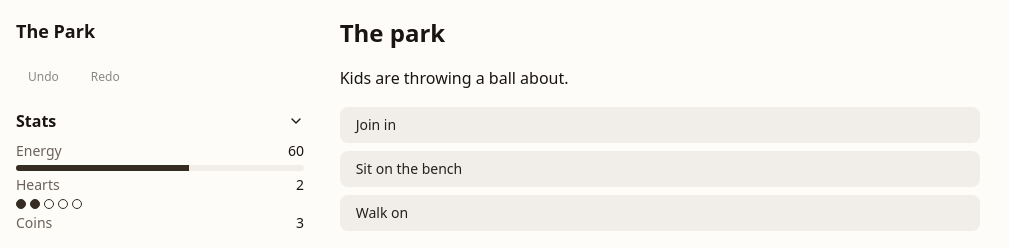
it: the minigame panel › draws the title, the words and a button for each live input, which send it
The image size is (1009, 248).
Click the button "Join in": [376, 124] box [340,107,980,143]
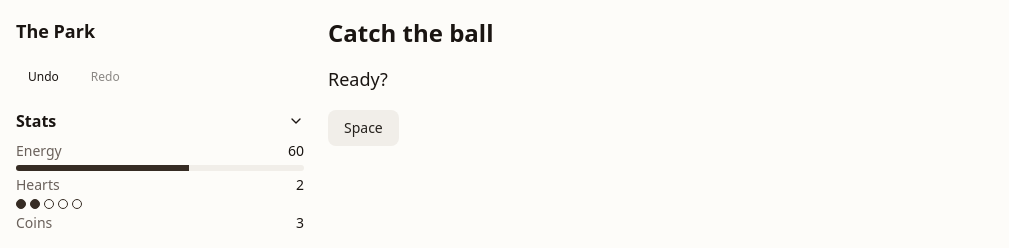
Expected: the heading "Catch the ball" is shown, [328,16,494,49]
Expected: the button "Walk on" is gone
Click the button "Space": [363, 128] box [328,110,399,146]
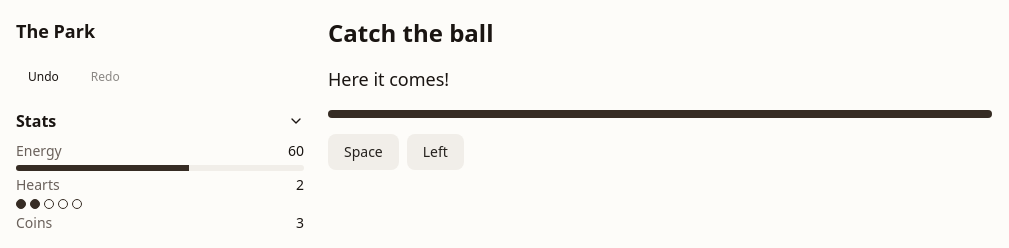
Click the button "Left": [435, 152] box [407,134,464,170]
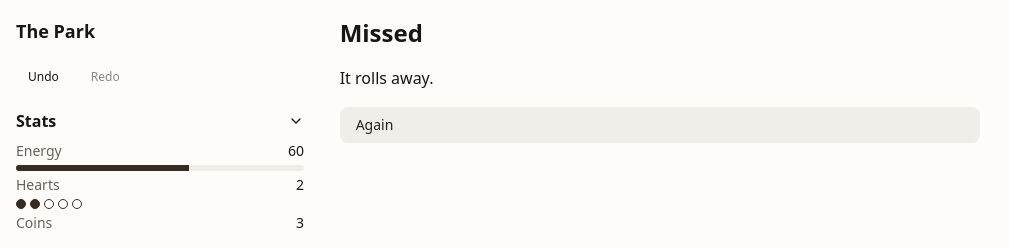
Expected: the heading "Missed" is shown, [340,17,423,49]
